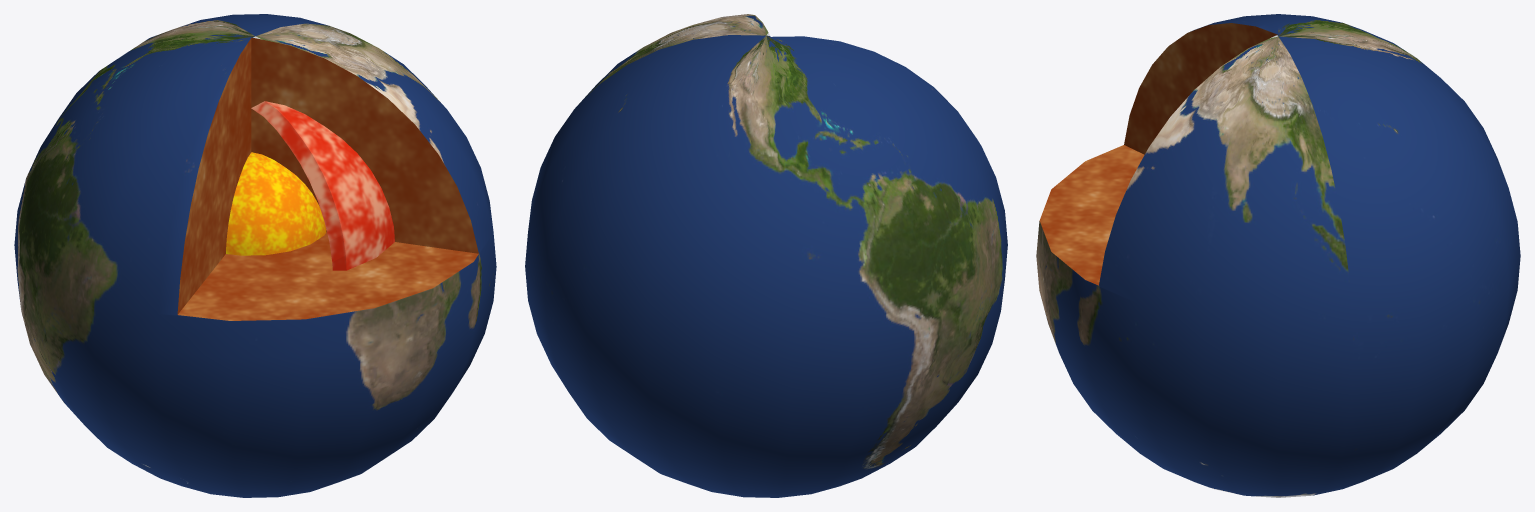
Rendered from Earth core.fbx.
3 renders of one model, left to right at view 1: azimuth 30°, elevation 25°; view 2: azimuth 150°, elevation 25°; view 3: azimuth 270°, elevation 25°, orthographic.
Parts seen in each view (by area): view 1: polySurface275, cor1; view 2: polySurface275; view 3: polySurface275, cor1.
Boxes of the visible parts, bbox=[...] form: polySurface275: bbox=[14, 14, 496, 497]; cor1: bbox=[177, 37, 478, 320]; polySurface275: bbox=[525, 14, 1007, 497]; polySurface275: bbox=[1036, 14, 1520, 497]; cor1: bbox=[1039, 23, 1277, 285].
Bounding box in the file's own units: 2 × 2 × 2.
2 materials, 2 textured.
